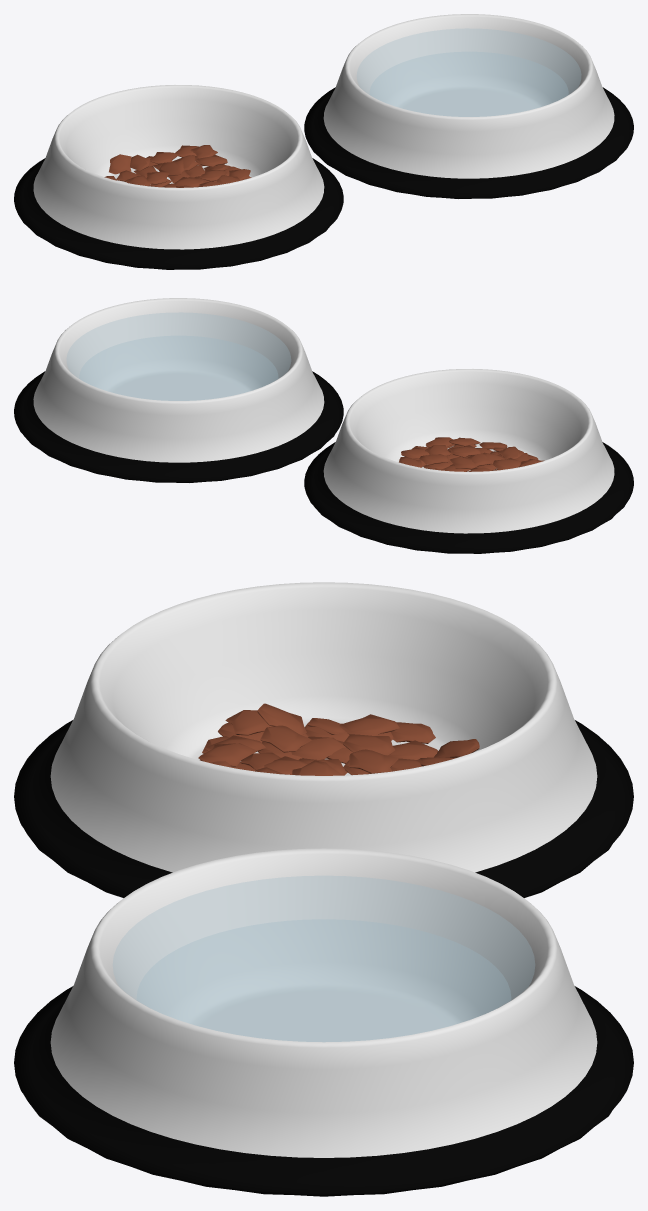
Rendered from dogfoodnwater.fbx.
The picture shows the model from 3 angles, top to bottom: view 1: azimuth 30°, elevation 25°; view 2: azimuth 150°, elevation 25°; view 3: azimuth 270°, elevation 25°; orthographic projection. The views are drawn at different scales.
Visible parts, largest first — view 1: dogwaterBowl, dogfoodBowl, dogwater, dogwater.001, dogfood.048; view 2: dogwaterBowl, dogfoodBowl, dogwater, dogwater.001; view 3: dogwaterBowl, dogfoodBowl, dogwater, dogwater.001, dogfood.035, dogfood.047, dogfood.037, dogfood.044.
Part boxes in pixels (box(x1,y1,x2,y2)): dogwaterBowl: box(304, 14, 633, 198); dogfoodBowl: box(14, 85, 343, 269); dogwater: box(357, 28, 581, 116); dogwater.001: box(370, 52, 567, 116); dogfood.048: box(109, 154, 131, 174); dogwaterBowl: box(14, 298, 343, 482); dogfoodBowl: box(304, 369, 633, 553); dogwater: box(66, 312, 290, 400); dogwater.001: box(80, 336, 277, 400); dogwaterBowl: box(14, 848, 633, 1196); dogfoodBowl: box(14, 582, 633, 897); dogwater: box(113, 876, 534, 1041); dogwater.001: box(137, 920, 510, 1041); dogfood.035: box(260, 725, 311, 752); dogfood.047: box(339, 714, 399, 735); dogfood.037: box(349, 749, 398, 773); dogfood.044: box(198, 743, 256, 766).
Bounding box in the file's own units: 391 × 43.71 × 194.
